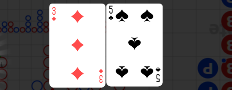3D: (98, 68, 105, 85)
5C: (155, 66, 162, 83)
